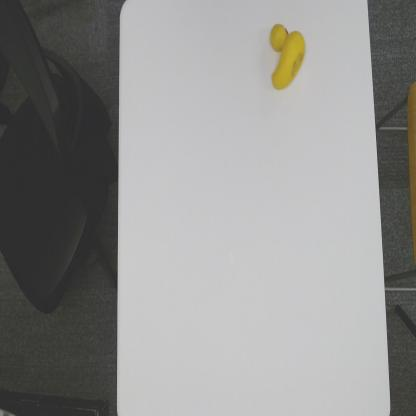Duck: (268, 20, 306, 93)
